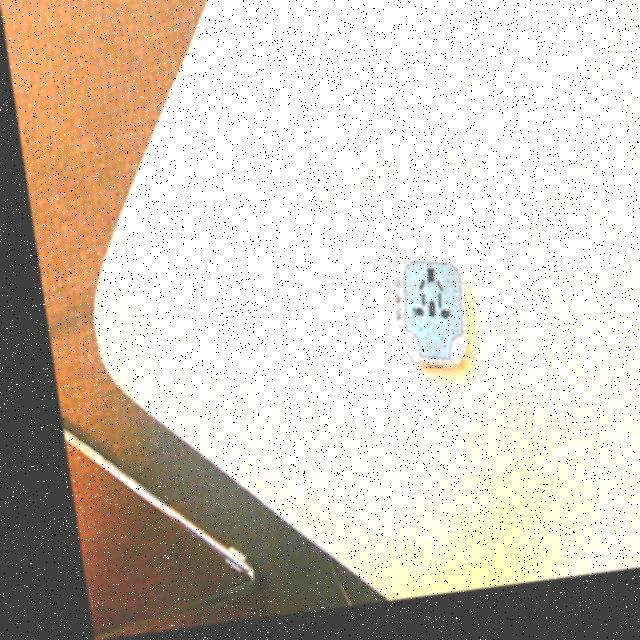adapter: (378, 261, 463, 383)
